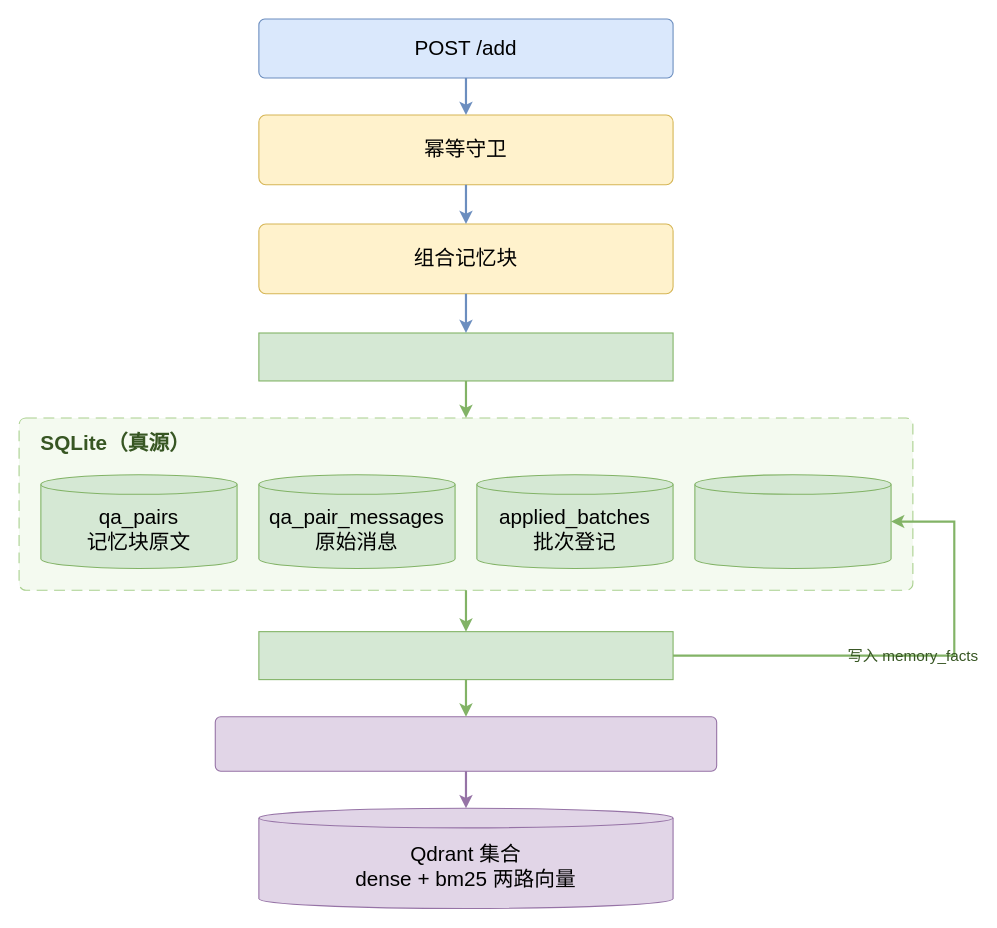
Some shapes in this 997 by 928 pixel diagram are drawn without their labels. Here are the shapes that lost their labels. From the top down, the centre of each, then its label:
At pixel 465 356: "提交真源事务".
At pixel 792 521: "memory_facts 抽取事实".
At pixel 465 655: "抽取事实（独立事务）".
At pixel 465 743: "渲染文本 → 向量化 → 写入派生索引".
